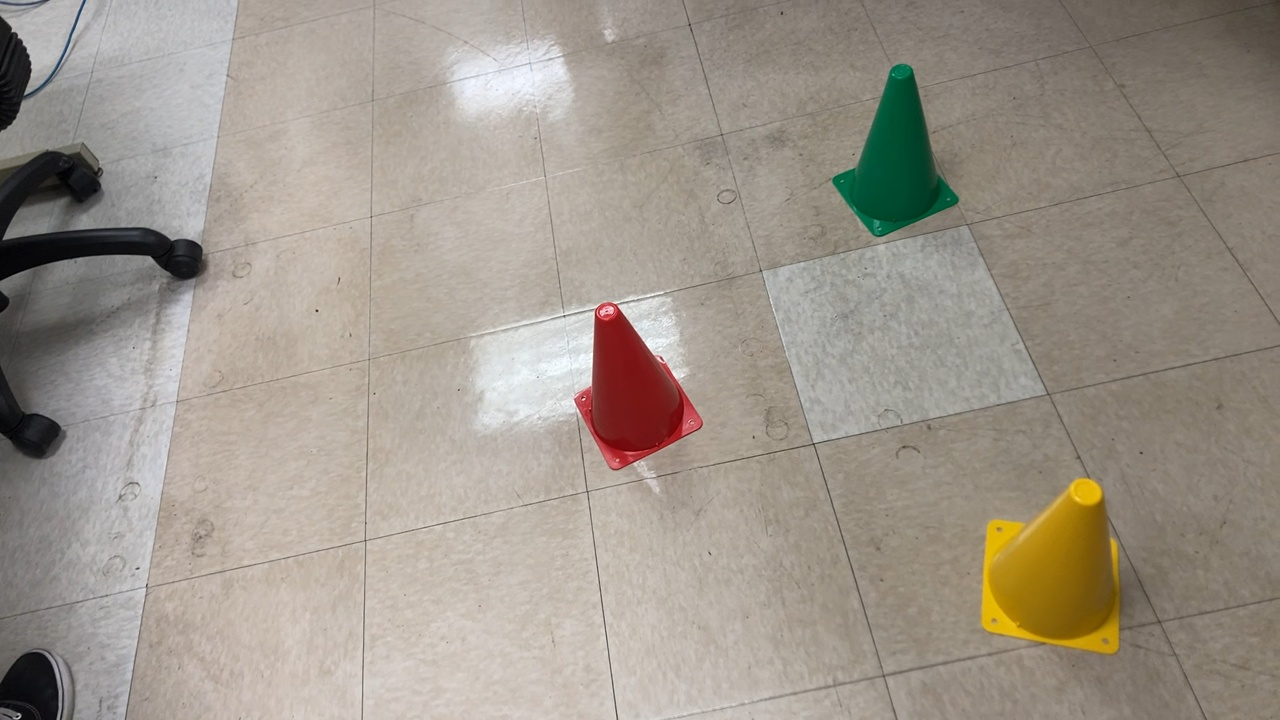green_cone: (827, 60, 966, 244)
red_cone: (572, 300, 706, 475)
yellow_cone: (976, 474, 1130, 661)
